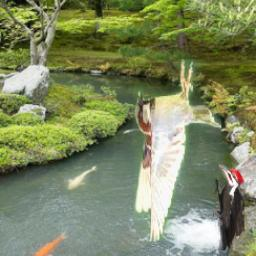Sparrow: (133, 60, 221, 243)
Woodpecker: (213, 163, 244, 250)
